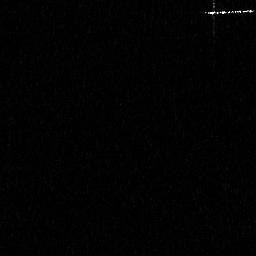ship: (203, 7, 254, 17)
